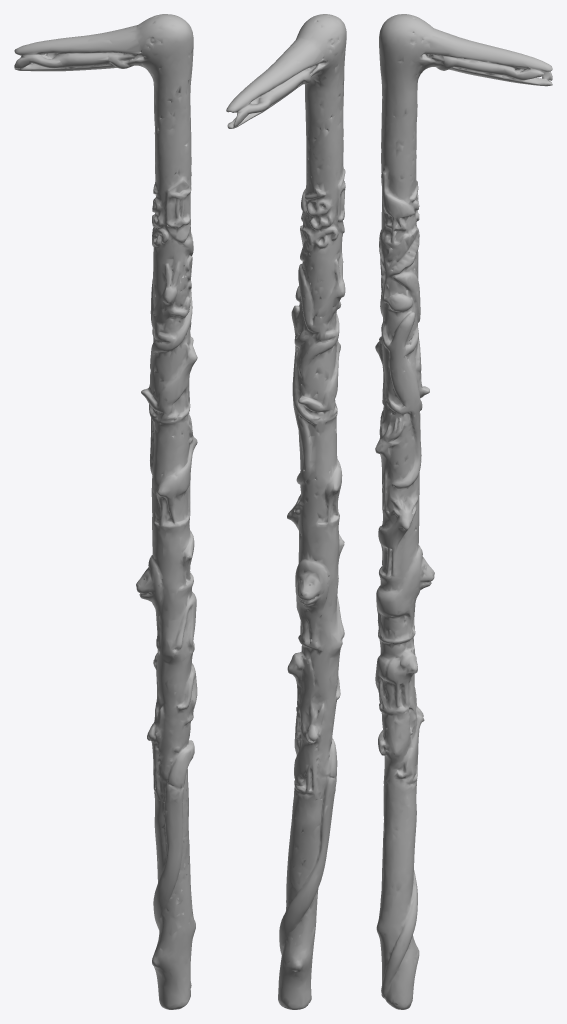
The picture shows the model from 3 angles, left to right: view 1: azimuth 90°, elevation 25°; view 2: azimuth 150°, elevation 25°; view 3: azimuth 270°, elevation 25°; orthographic projection. The views are drawn at different scales.
Parts seen in each view (by area): view 1: object; view 2: object; view 3: object.
Part boxes in pixels (<box>): object: <box>14,14,197,1009</box>; object: <box>226,14,346,1009</box>; object: <box>375,14,552,1009</box>.
Size of the model in its own units: 8.02 by 115 by 18.97.
1 material, 1 textured.
